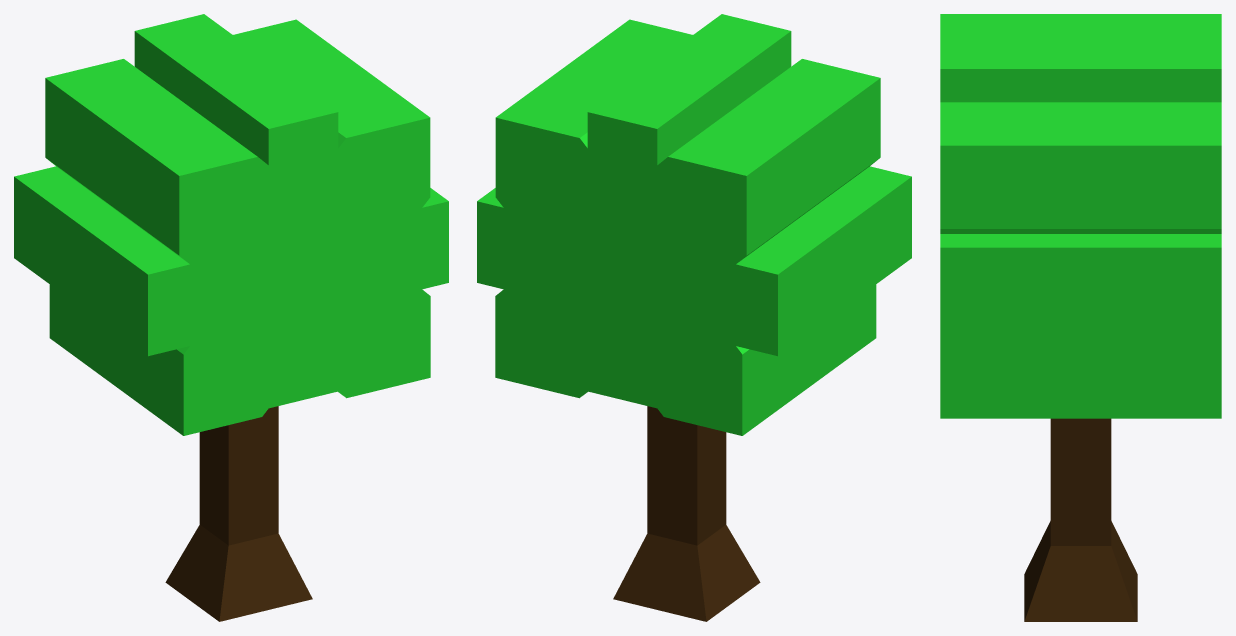
Rendered from arbol.glb.
3 renders of one model, left to right at view 1: azimuth 30°, elevation 25°; view 2: azimuth 150°, elevation 25°; view 3: azimuth 270°, elevation 25°, orthographic. The views are drawn at different scales.
Visible parts, largest first — view 1: Cube.001, Cube; view 2: Cube.001, Cube; view 3: Cube.001, Cube.
Part boxes in pixels (left/top/right/bottom): Cube.001: left=14, top=14, right=448, bottom=435; Cube: left=165, top=406, right=312, bottom=621; Cube.001: left=477, top=14, right=911, bottom=435; Cube: left=613, top=406, right=760, bottom=621; Cube.001: left=940, top=14, right=1221, bottom=418; Cube: left=1024, top=418, right=1137, bottom=621.
Size of the model in its own units: 7.79 by 12.87 by 6.01.
